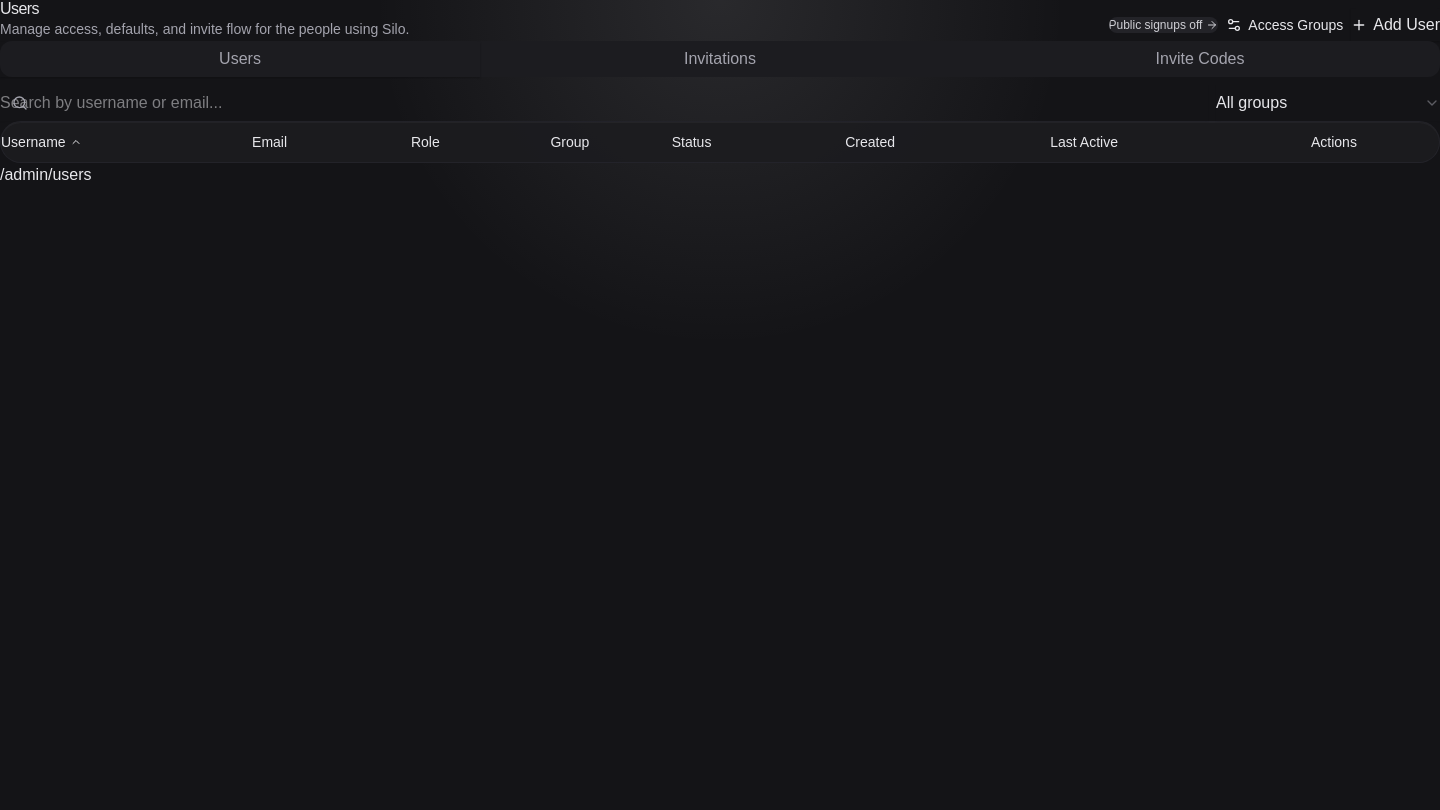
Test: AdminUsers user dialog policy hints › uses the server defaults once a loaded list has no default group
What coordinates should you click on to do the following:
click the button "Add User"
I would click on:
 (1396, 25)
Its box is x1=1351 y1=9 x2=1439 y2=41.
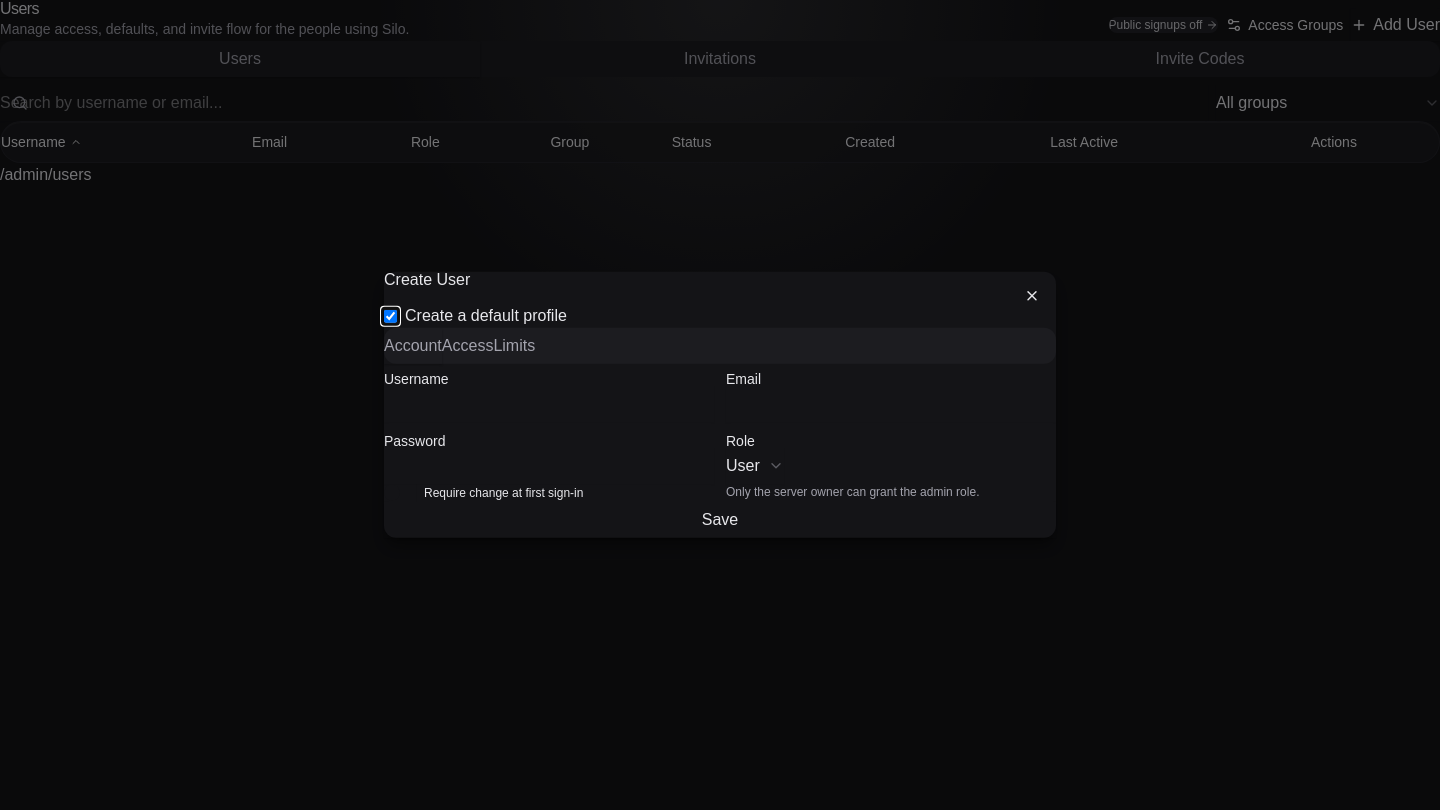
What coordinates should you click on to do the following:
click the tab "Limits"
I would click on:
 (514, 346)
Its box is x1=493 y1=328 x2=535 y2=363.
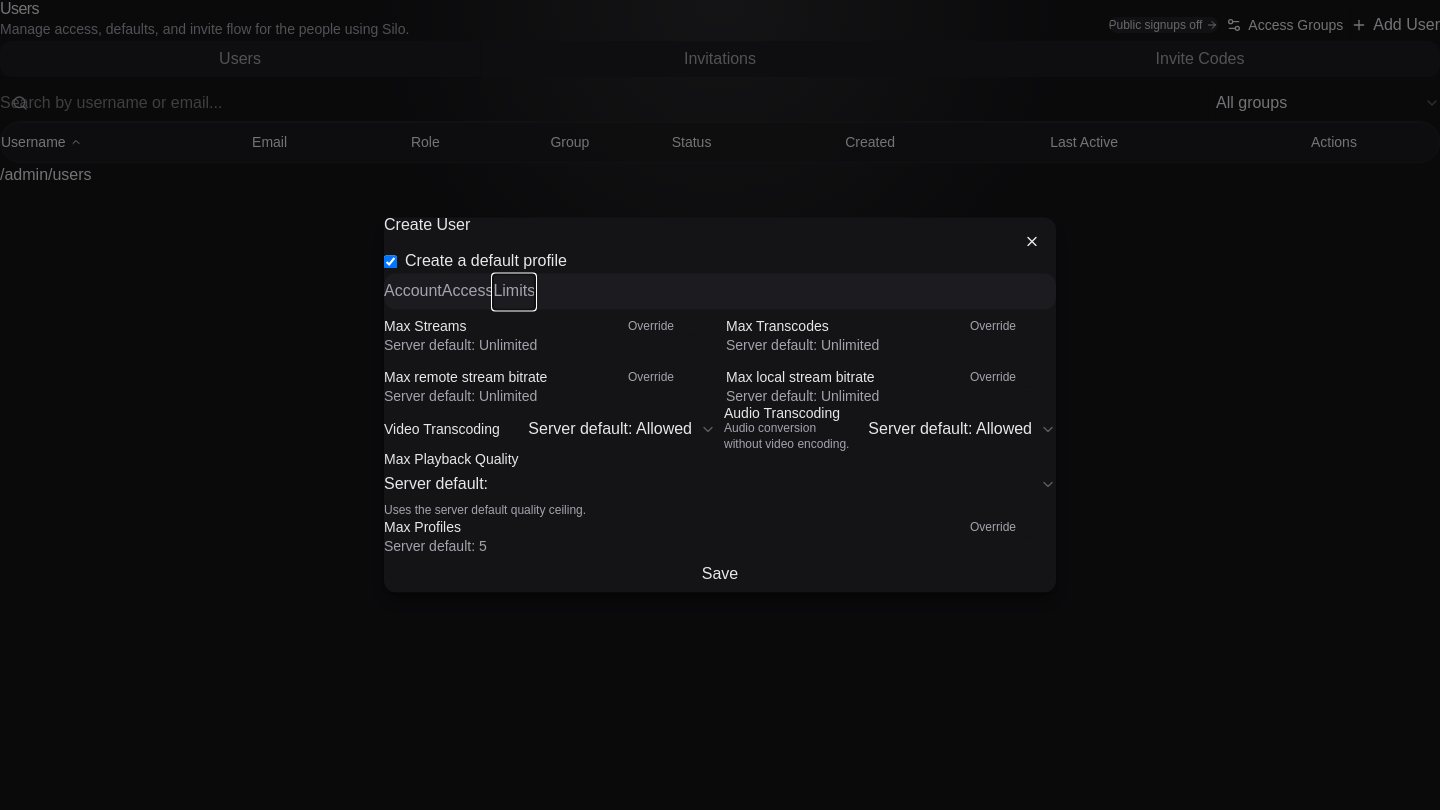
Expected: the text "Server default: Unlimited" is shown 4 times, x1=384 y1=338 x2=537 y2=354; x1=726 y1=338 x2=879 y2=354; x1=384 y1=388 x2=537 y2=404; x1=726 y1=388 x2=879 y2=404
Expected: the text "Server default: 5" is shown, x1=384 y1=539 x2=487 y2=555
